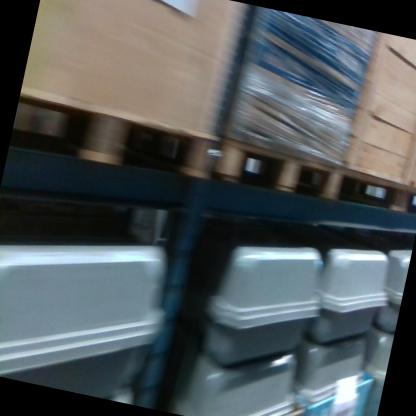pallet: (8, 89, 220, 193), (210, 133, 343, 208), (334, 163, 416, 218)
